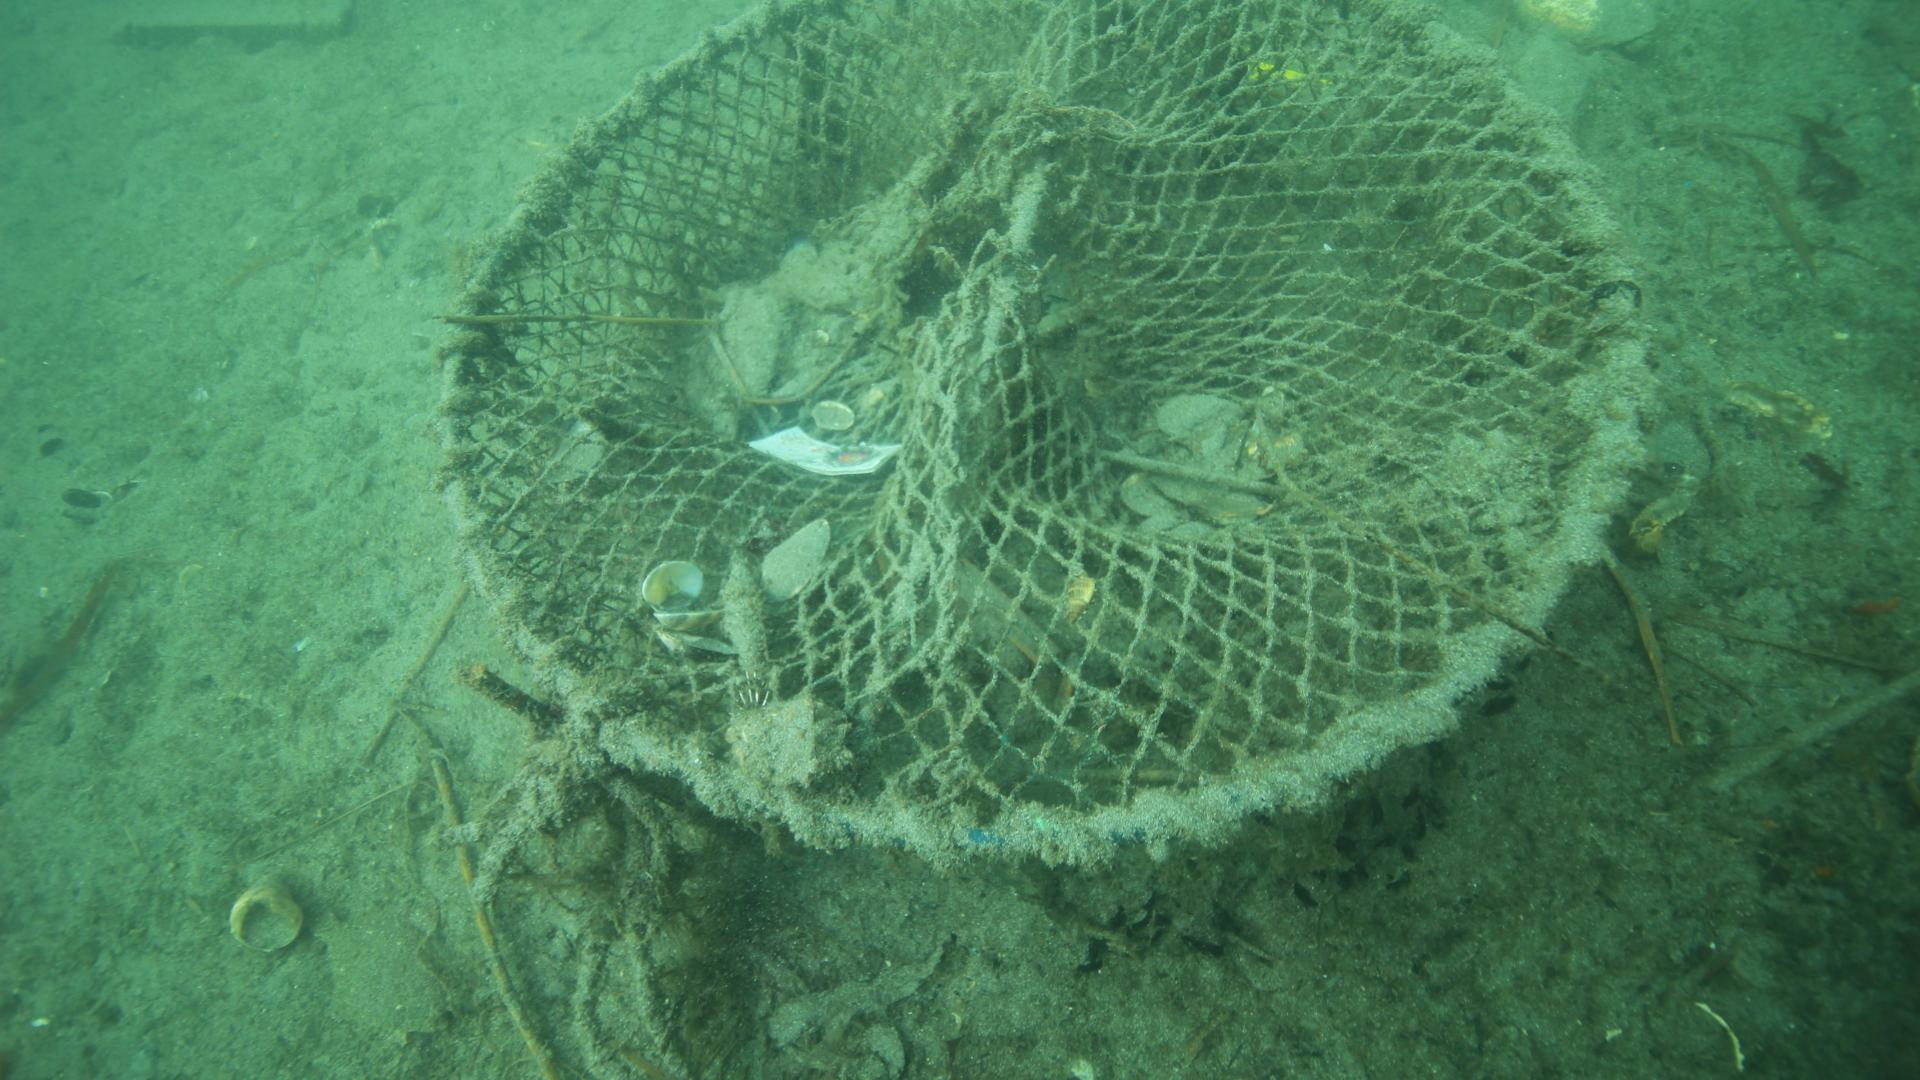circular fish trap: (434, 0, 1650, 860)
